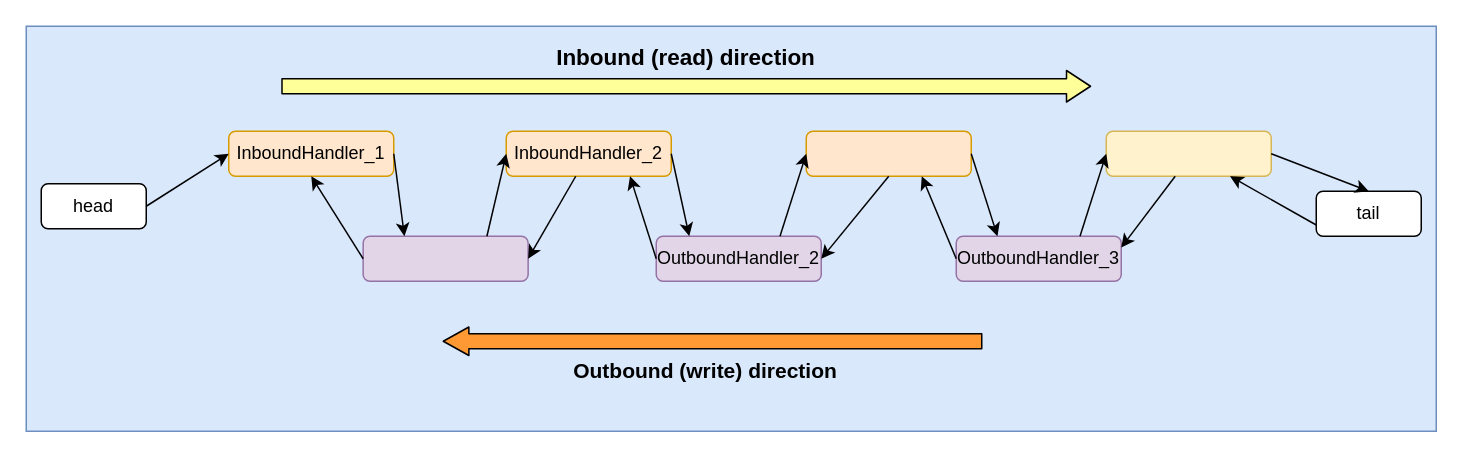
This 1463x458 diagram has some shape labels left out. Here are the shapes that lost their labels. From the top down, the box of each, then its label:
(805, 130, 971, 176): InboundHandler_3
(1105, 130, 1271, 176): InboundHandler_4
(362, 235, 528, 281): OutboundHandler_1
